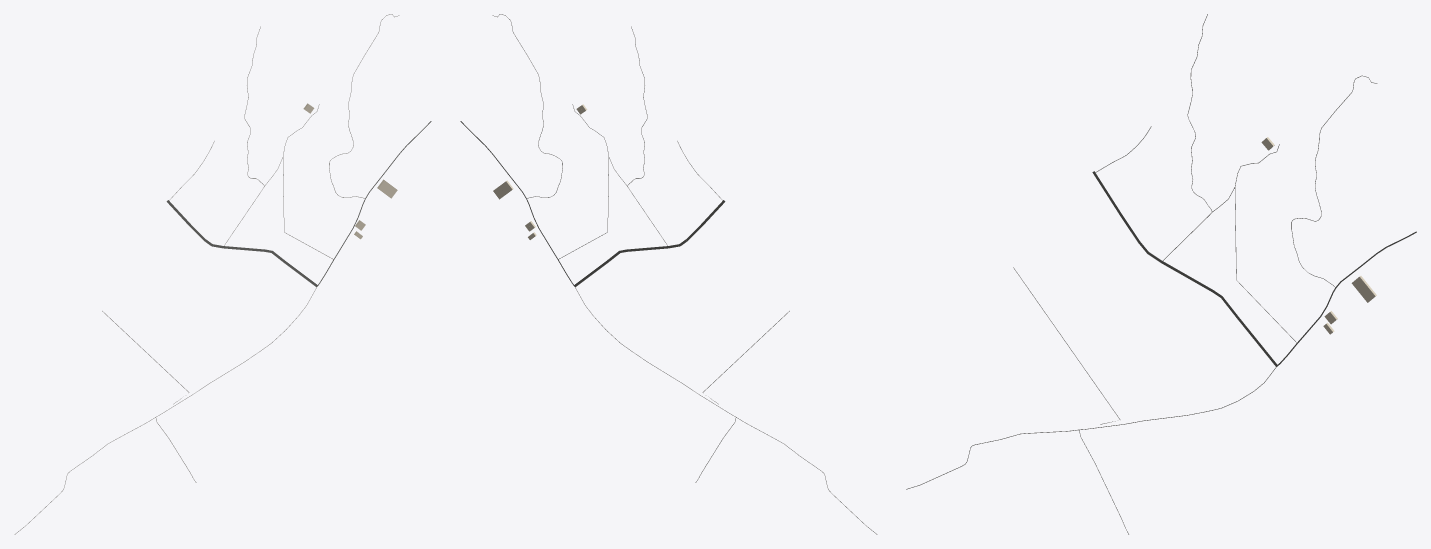
The model's file is historic-palestine-08_31_3496_3254.glb.
3 renders of one model, left to right at view 1: azimuth 30°, elevation 25°; view 2: azimuth 150°, elevation 25°; view 3: azimuth 330°, elevation 25°, orthographic. The views are drawn at different scales.
Size of the model in its own units: 1508 by 1549 by 8.7.
